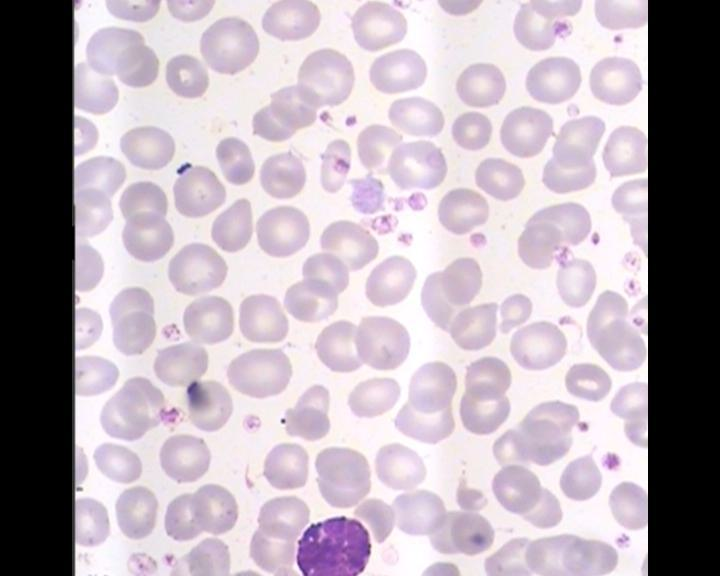baso: (289, 511, 378, 576)
